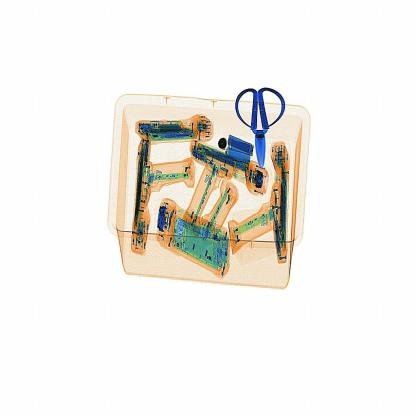gun: (233, 74, 292, 178)
